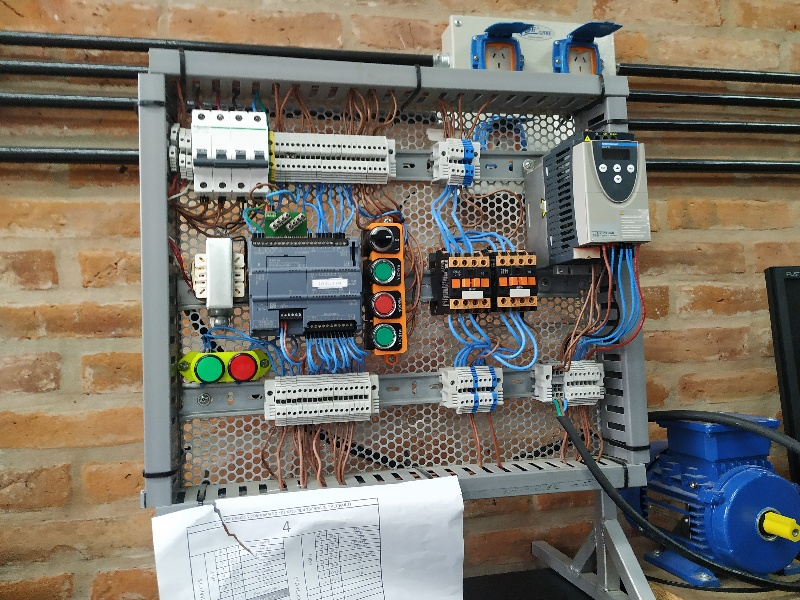Tablero 4: (159, 66, 649, 482)
